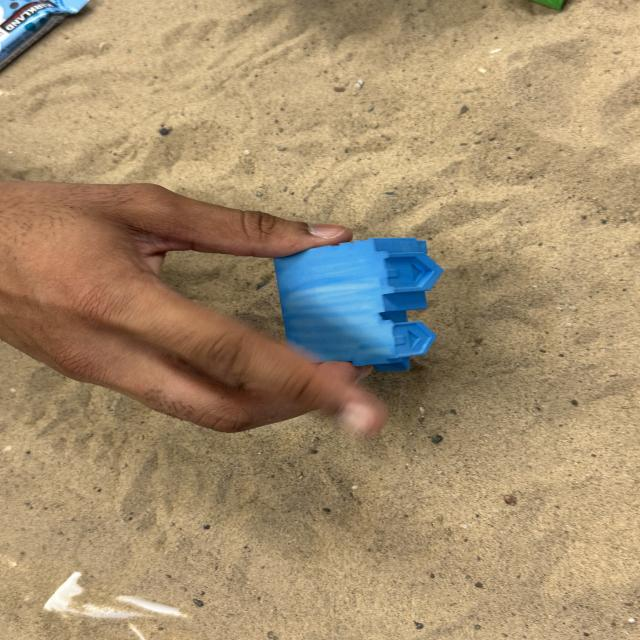house: (271, 235, 444, 372)
